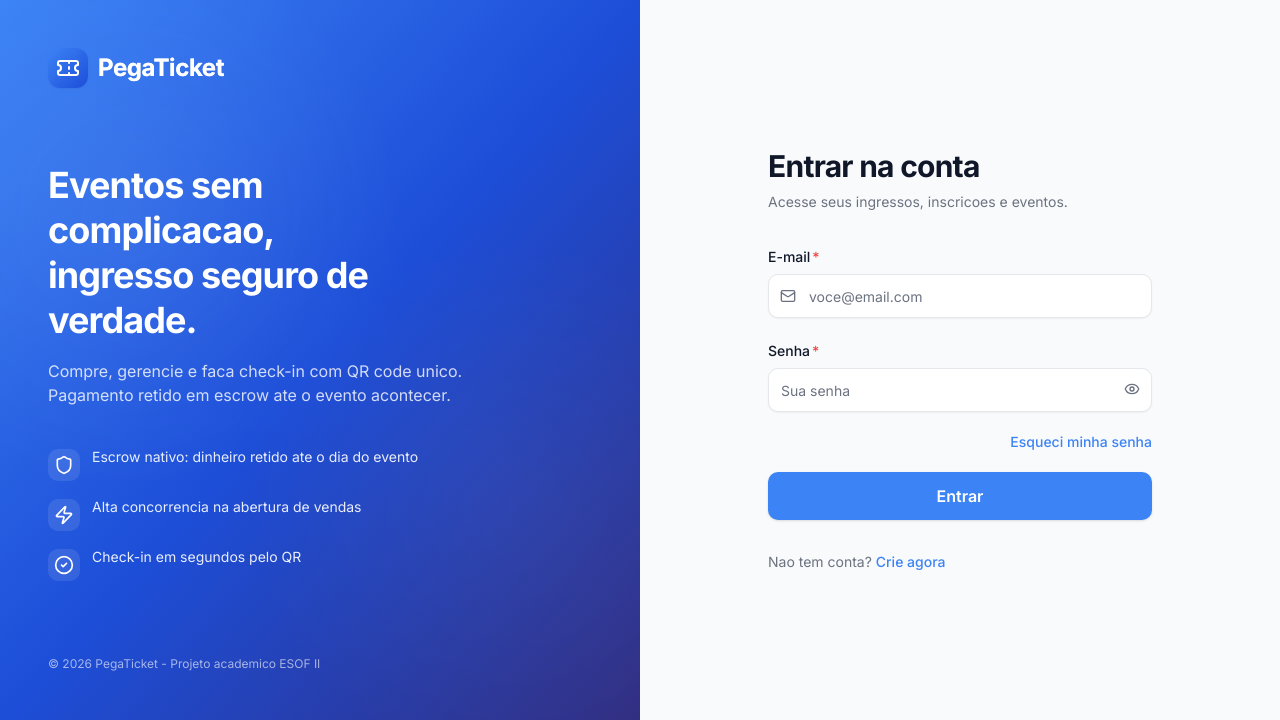
Test: <Login> › mostra erro de validacao para email invalido
The width and height of the screenshot is (1280, 720).
In the field labelled "E-mail*": (960, 296) [768, 274, 1152, 318], type "naoeemail"
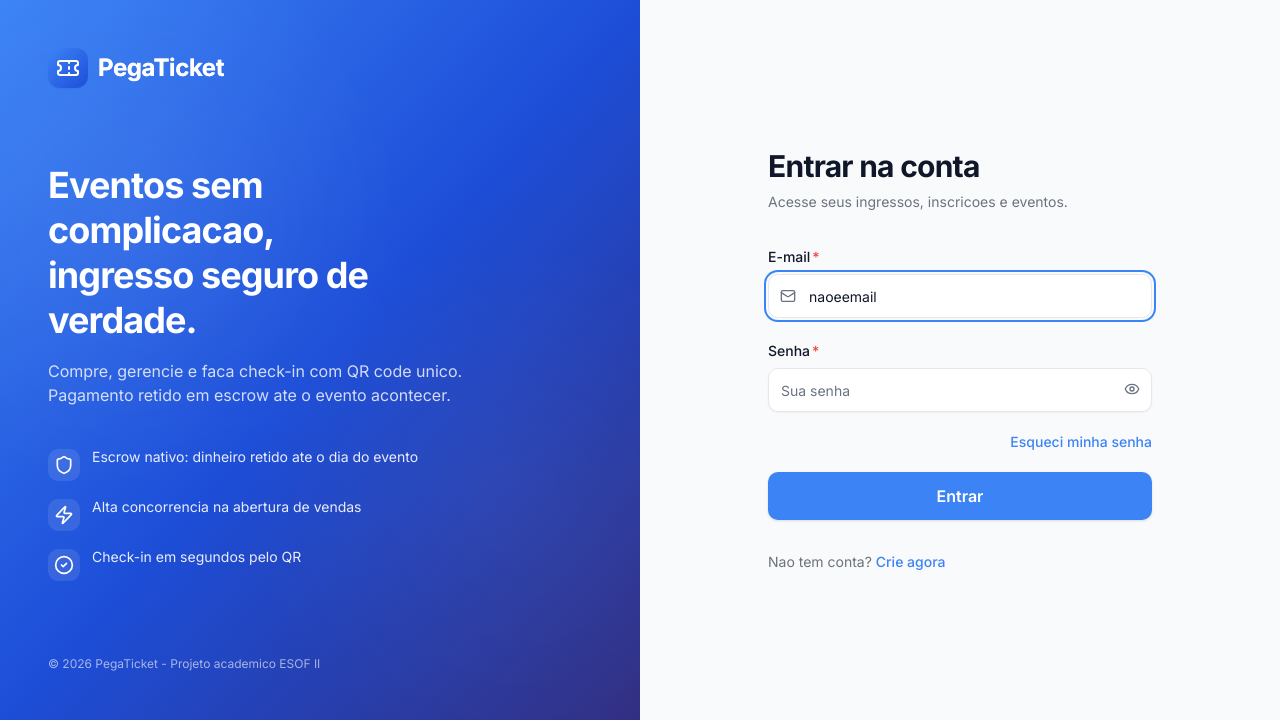
In the password field labelled "Senha*": (960, 390) [768, 368, 1152, 412], type "qualquer"
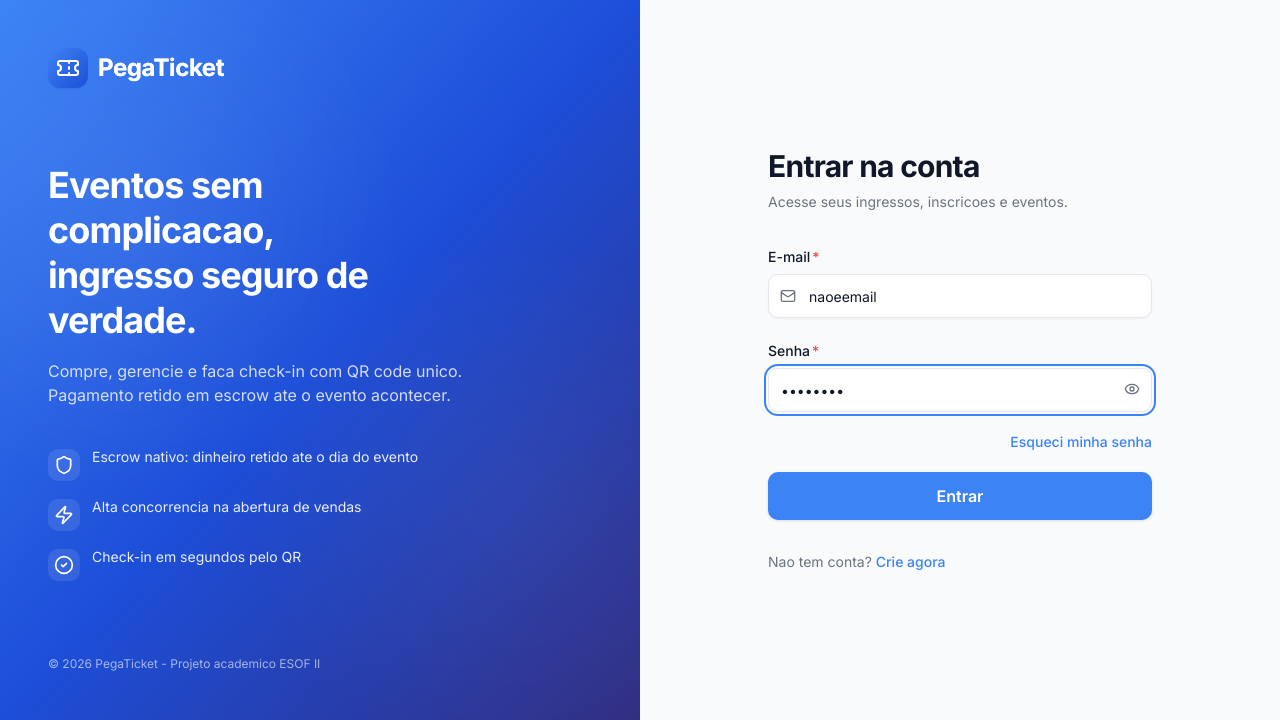
Click the button "Entrar": (960, 496) [768, 472, 1152, 520]
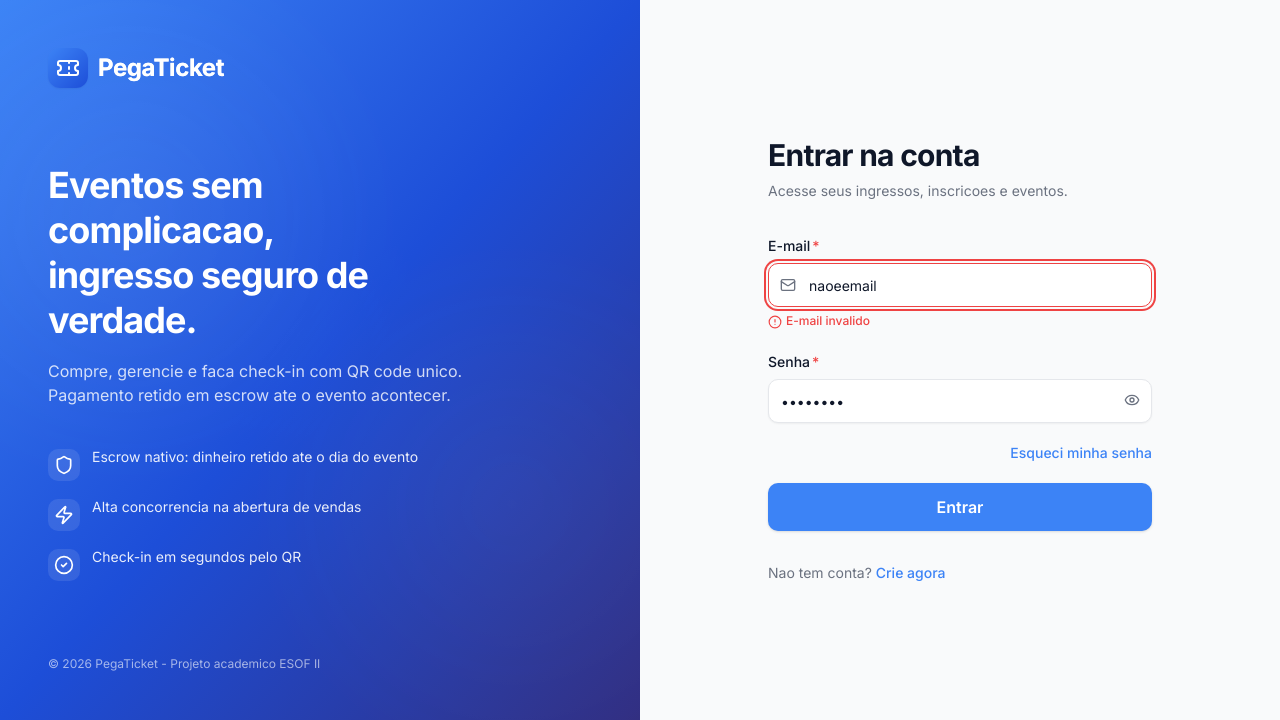
Check: the text "E-mail invalido" is shown, box [786, 313, 870, 329]
